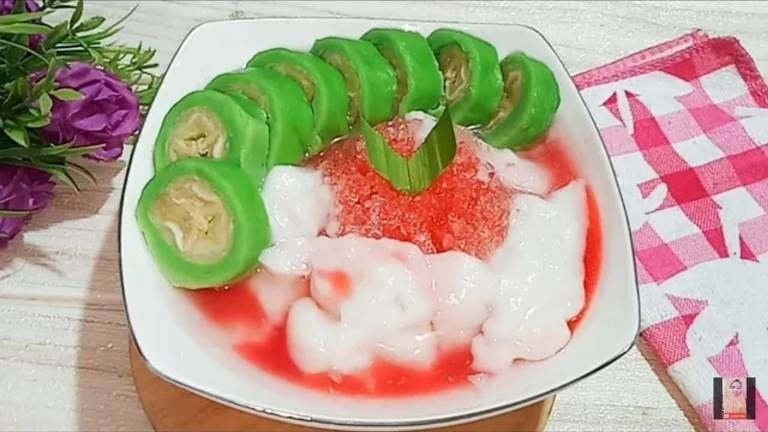es_pisang_ijo: (141, 29, 599, 396)
